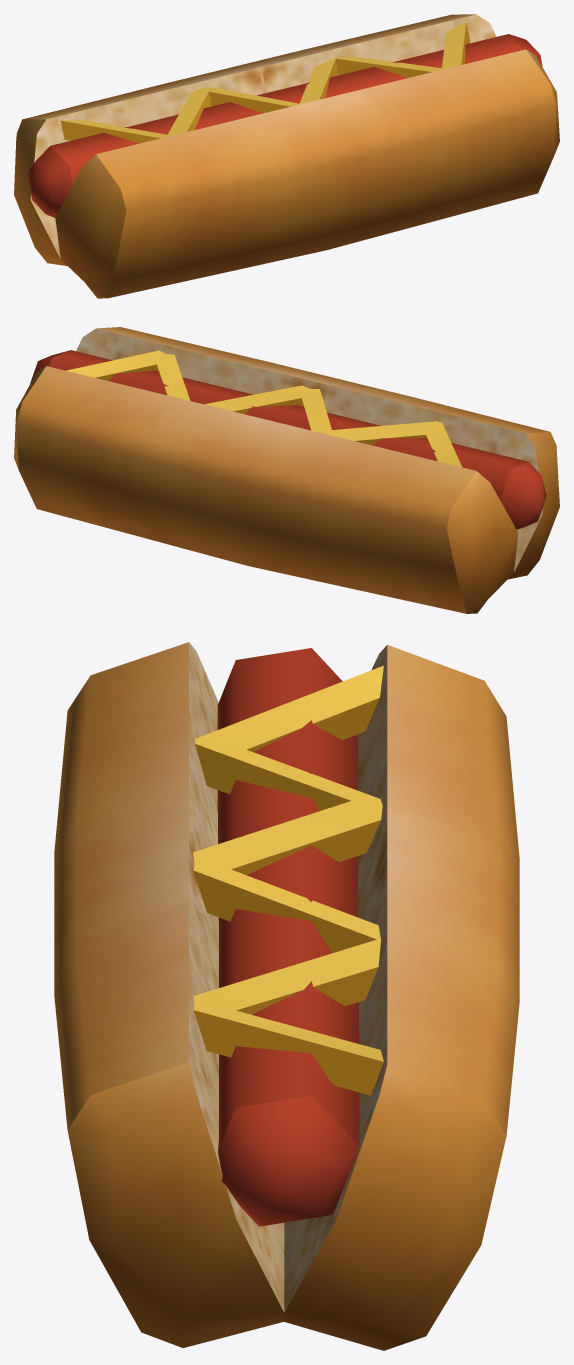
The model's file is HotDog.fbx.
The picture shows the model from 3 angles, top to bottom: view 1: azimuth 30°, elevation 25°; view 2: azimuth 150°, elevation 25°; view 3: azimuth 270°, elevation 25°; orthographic projection. The views are drawn at different scales.
Parts seen in each view (by area): view 1: HotDog; view 2: HotDog; view 3: HotDog.
Boxes of the visible parts, <box> form: HotDog: <box>14,14,559,298</box>; HotDog: <box>14,327,559,613</box>; HotDog: <box>54,642,519,1350</box>.
Size of the model in its own units: 196 by 53.93 by 77.52.
